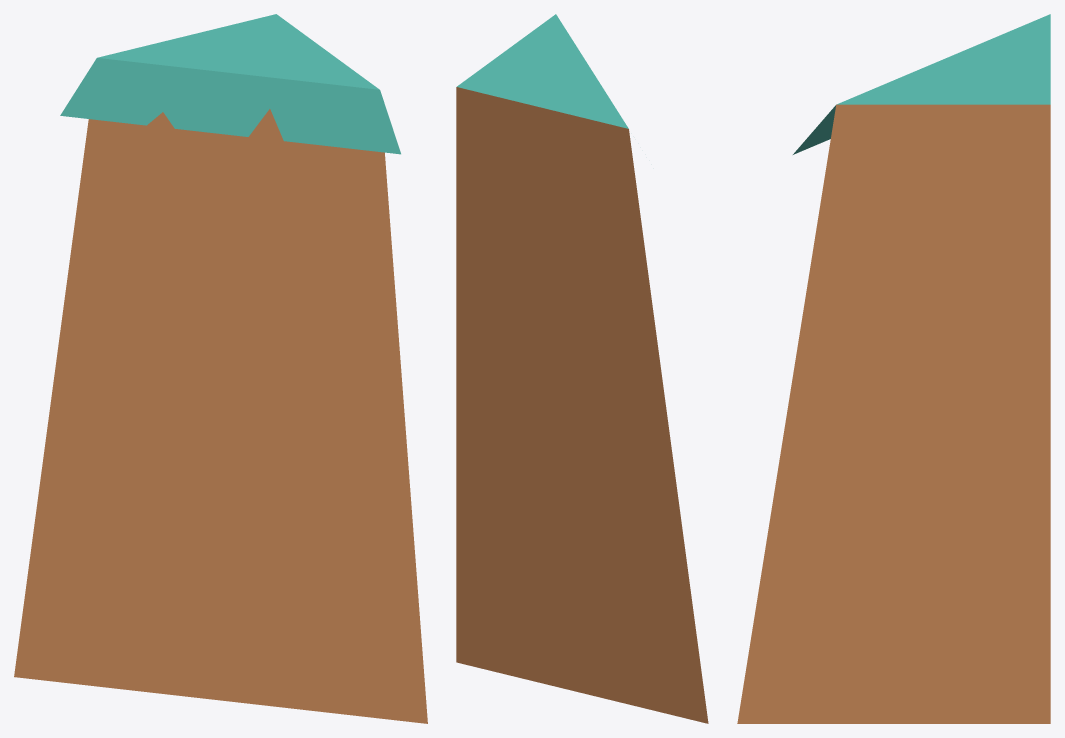
Rendered from cliffBrown_cornerTop.fbx.
The picture shows the model from 3 angles, left to right: view 1: azimuth 30°, elevation 25°; view 2: azimuth 150°, elevation 25°; view 3: azimuth 270°, elevation 25°; orthographic projection. The views are drawn at different scales.
Visible parts, largest first — view 1: cliffBrown_cornerTop; view 2: cliffBrown_cornerTop; view 3: cliffBrown_cornerTop.
Boxes of the visible parts, box(x1,y1,x2,y2) form: cliffBrown_cornerTop: box(14, 14, 427, 723); cliffBrown_cornerTop: box(456, 14, 708, 723); cliffBrown_cornerTop: box(737, 14, 1050, 723).
Bounding box in the file's own units: 4.58 × 10 × 4.58.
